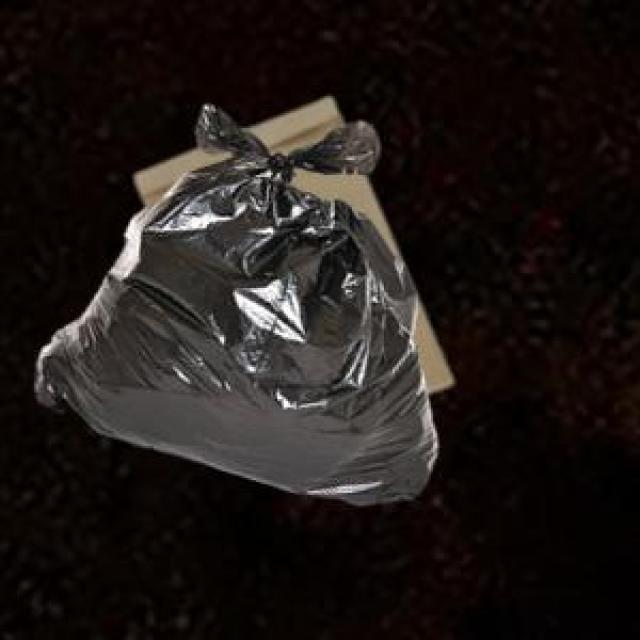miscellaneous trash: (32, 100, 433, 499)
paper: (132, 94, 448, 388)
